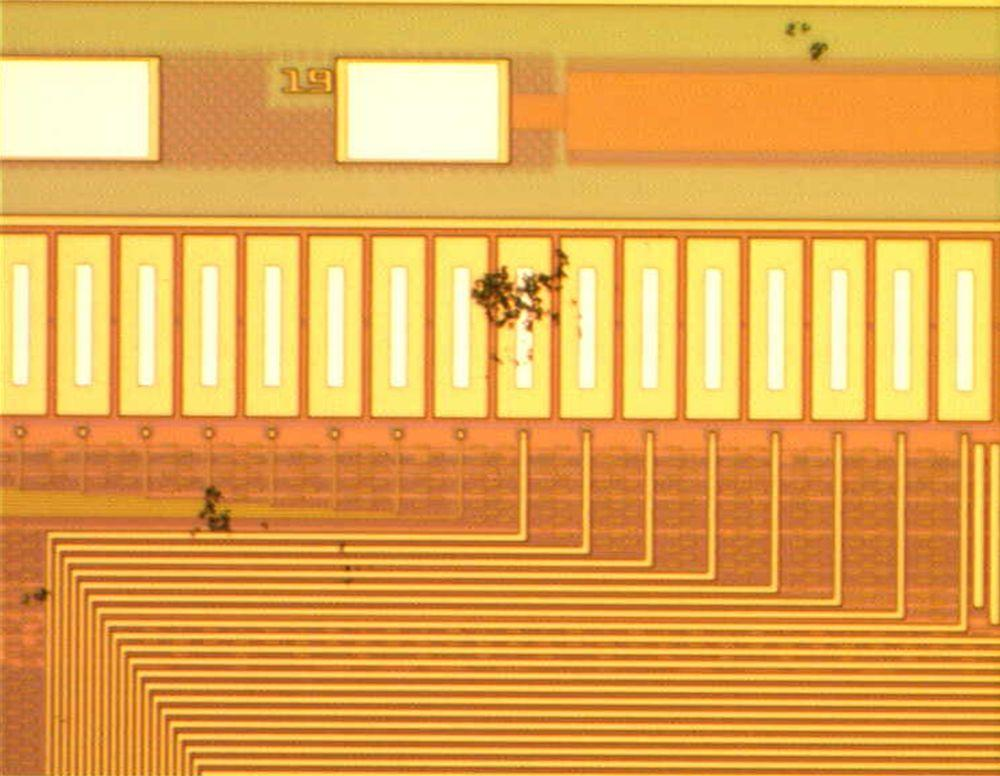PO CONTAMINATION: (372, 15, 832, 394), (5, 430, 372, 613)
